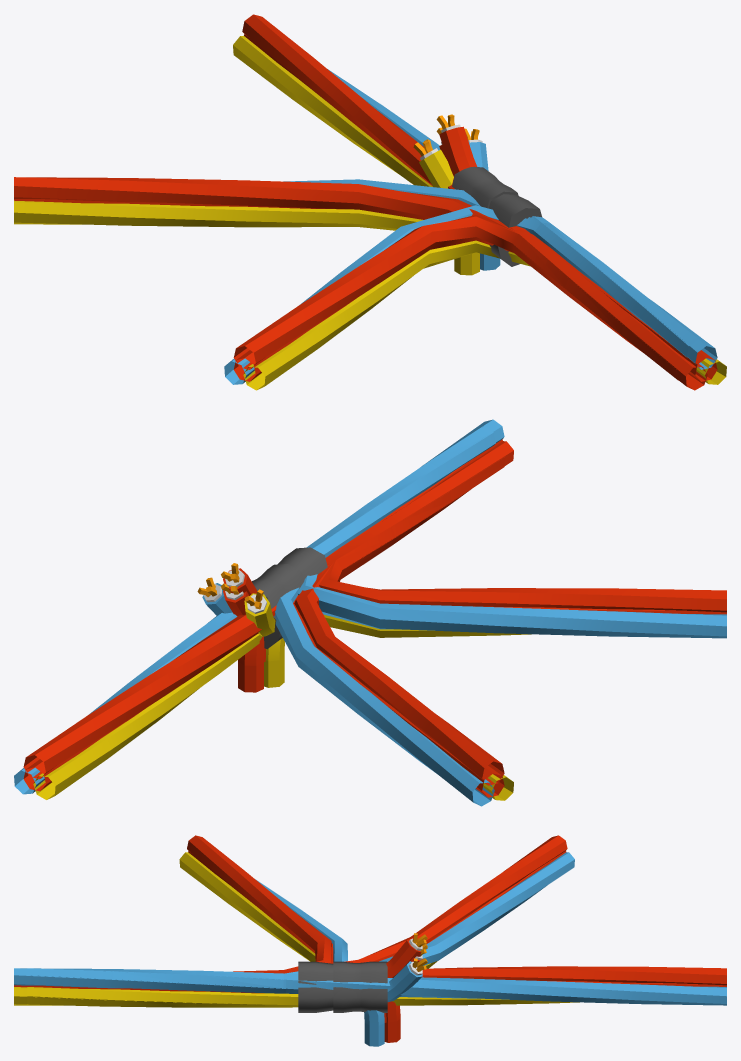
File: Wires.fbx
3 renders of one model, top to bottom at view 1: azimuth 30°, elevation 25°; view 2: azimuth 150°, elevation 25°; view 3: azimuth 270°, elevation 25°, orthographic. The views are drawn at different scales.
Parts seen in each view (by area): view 1: Soft_Bent_wire_bundle, Sharp_Bent_Wire_Bundle, Straight_Wire_Bundle, Frayed_End_Bundle, Connector_longer, Sharp_Bent_Wire_Single, Soft_Bent_wire_single, Connector_shorter, Wire_End_Bundle; view 2: Sharp_Bent_Wire_Bundle, Straight_Wire_Bundle, Soft_Bent_wire_bundle, Frayed_End_Bundle, Wire_End_Bundle, Connector_longer, Soft_Bent_wire_single, Connector_shorter, Sharp_Bent_Wire_Single, Straight_Wire_Single; view 3: Straight_Wire_Bundle, Sharp_Bent_Wire_Bundle, Soft_Bent_wire_bundle, Connector_longer, Frayed_End_Bundle, Connector_shorter, Wire_End_Bundle, Straight_Wire_Single, Sharp_Bent_Wire_Single, Soft_Bent_wire_single.
Part boxes in pixels (left/top/right/bottom): Soft_Bent_wire_bundle: left=14, top=177, right=725, bottom=386; Sharp_Bent_Wire_Bundle: left=224, top=205, right=726, bottom=390; Straight_Wire_Bundle: left=233, top=14, right=716, bottom=380; Frayed_End_Bundle: left=413, top=114, right=488, bottom=188; Connector_longer: left=452, top=166, right=541, bottom=266; Sharp_Bent_Wire_Single: left=233, top=234, right=717, bottom=381; Soft_Bent_wire_single: left=14, top=199, right=716, bottom=380; Connector_shorter: left=455, top=172, right=518, bottom=208; Wire_End_Bundle: left=454, top=252, right=500, bottom=275; Sharp_Bent_Wire_Bundle: left=297, top=426, right=726, bottom=638; Straight_Wire_Bundle: left=14, top=426, right=505, bottom=799; Soft_Bent_wire_bundle: left=275, top=419, right=513, bottom=806; Frayed_End_Bundle: left=197, top=563, right=275, bottom=636; Wire_End_Bundle: left=238, top=636, right=284, bottom=692; Connector_longer: left=252, top=547, right=327, bottom=649; Soft_Bent_wire_single: left=293, top=439, right=504, bottom=797; Connector_shorter: left=253, top=564, right=304, bottom=638; Sharp_Bent_Wire_Single: left=326, top=440, right=726, bottom=614; Straight_Wire_Single: left=23, top=445, right=493, bottom=791; Straight_Wire_Bundle: left=27, top=966, right=726, bottom=1007; Sharp_Bent_Wire_Bundle: left=14, top=835, right=347, bottom=1007; Soft_Bent_wire_bundle: left=14, top=835, right=574, bottom=1007; Connector_longer: left=298, top=961, right=387, bottom=1012; Frayed_End_Bundle: left=386, top=933, right=427, bottom=1002; Connector_shorter: left=333, top=961, right=382, bottom=1012; Wire_End_Bundle: left=364, top=1001, right=400, bottom=1046; Straight_Wire_Single: left=27, top=980, right=726, bottom=993; Sharp_Bent_Wire_Single: left=14, top=851, right=333, bottom=991; Soft_Bent_wire_single: left=14, top=851, right=566, bottom=991.
Bounding box in the file's own units: 33.96 × 11.15 × 68.7.
Materials: 1 (1 with a texture image).
